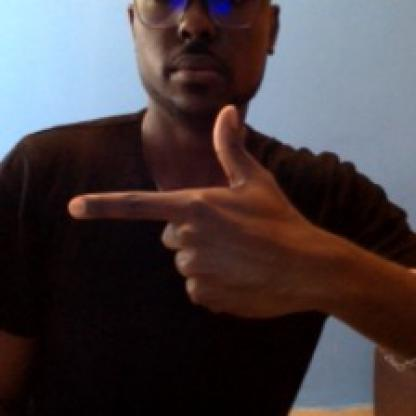TURN RIGHT: (64, 175, 354, 339)
